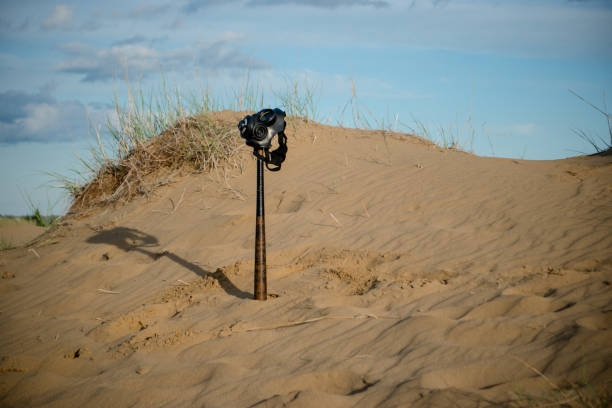bita: (244, 130, 274, 303)
